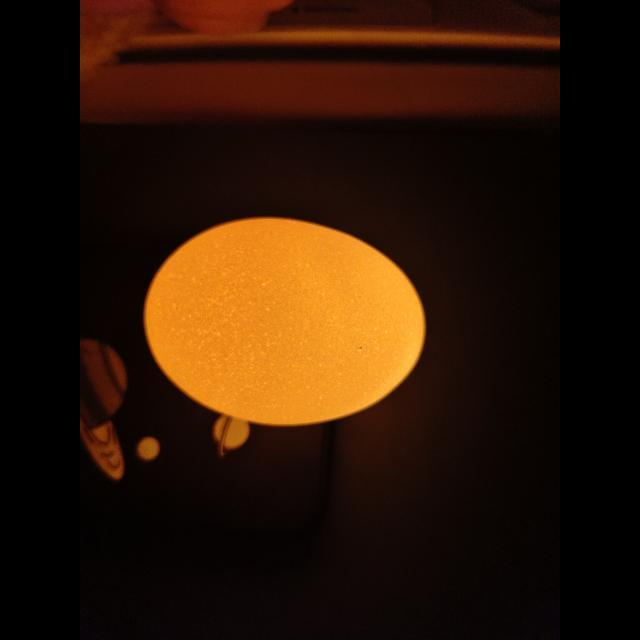AA - Premium: (144, 218, 425, 425)
